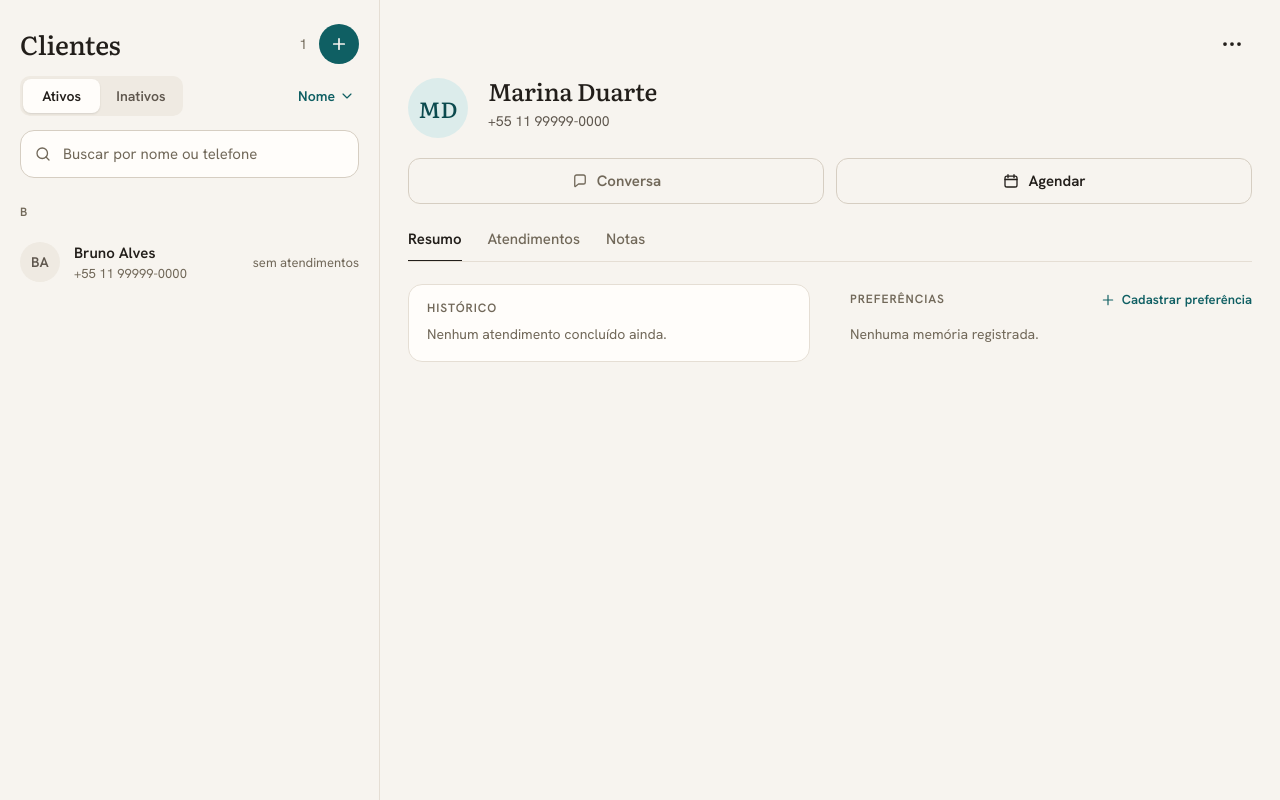
Test: itens de lista continuam sendo link e botão para o leitor de tela › no seletor de responsável cada candidato é um listitem e continua sendo um botão
Expected: the heading "Marina Duarte" is shown, [488, 78, 657, 104]
Click the button named "Mais ações do cliente". click: (1232, 44)
box: [1212, 24, 1252, 64]
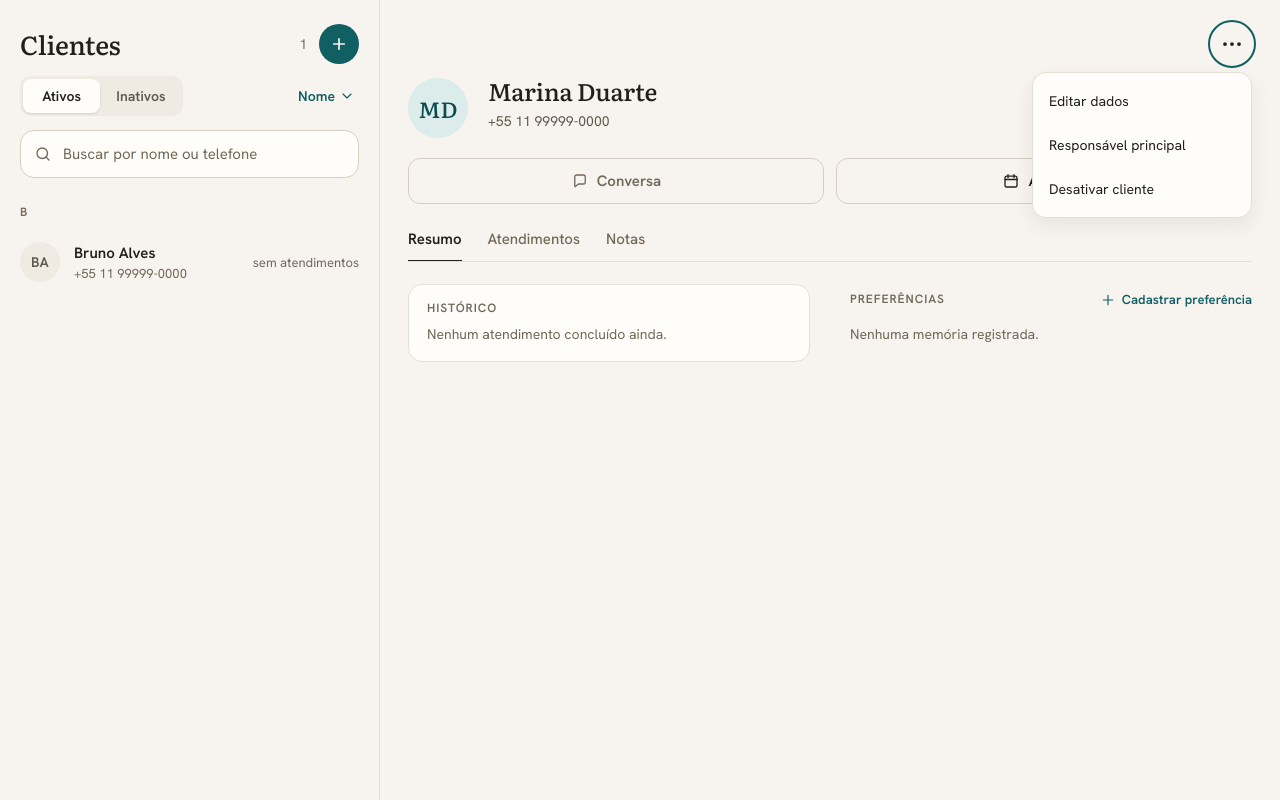
Click the menu item "Responsável principal". click: (1142, 145)
box: [1039, 123, 1245, 167]
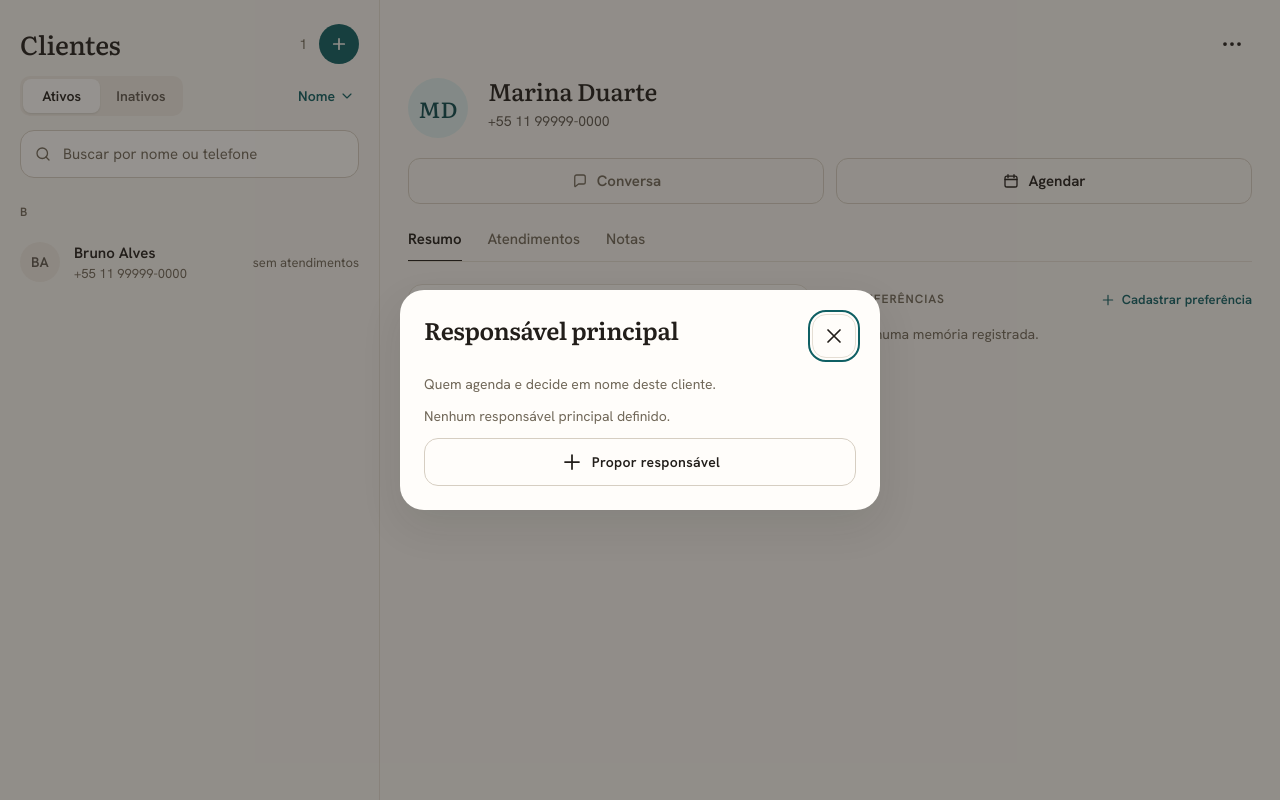
Click the button "Propor responsável". click: (640, 462)
box: [424, 438, 856, 486]
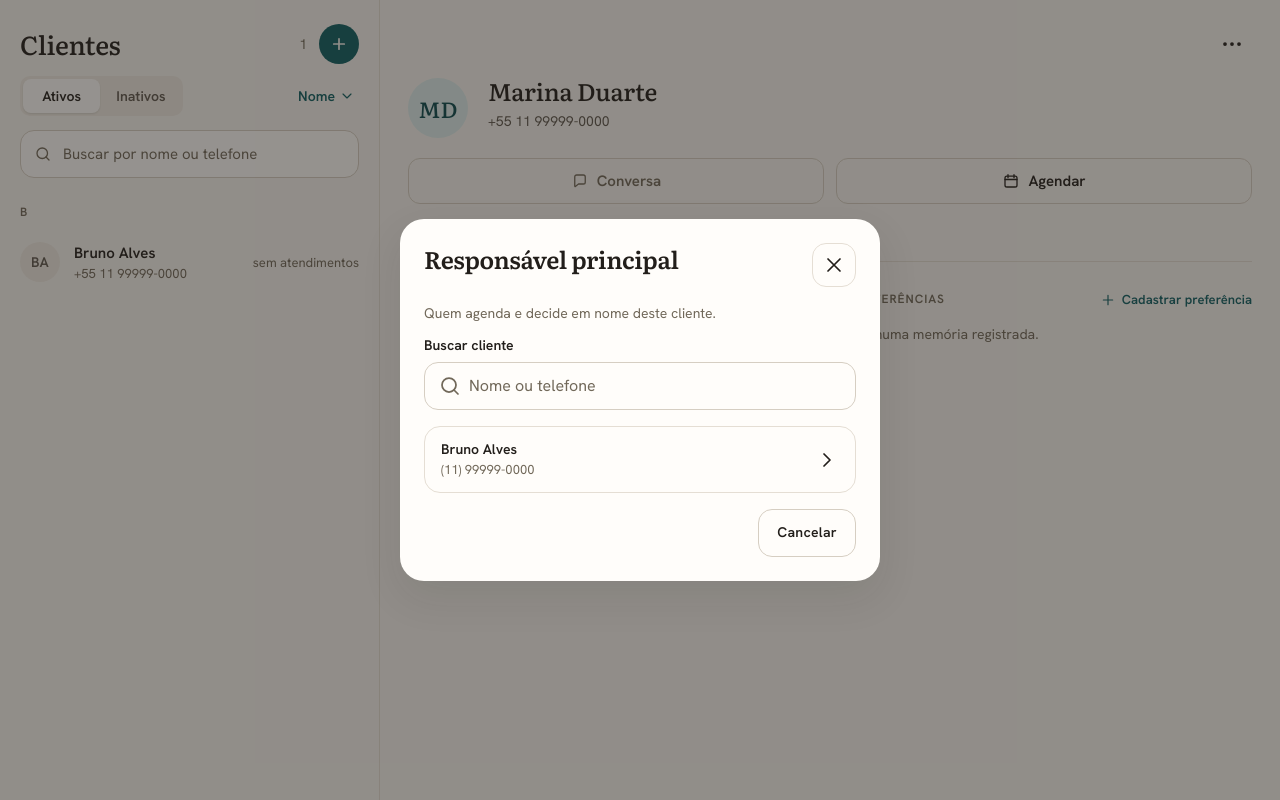
Expected: the button "Bruno Alves (11) 99999-0000" is enabled, [425, 427, 855, 492]
